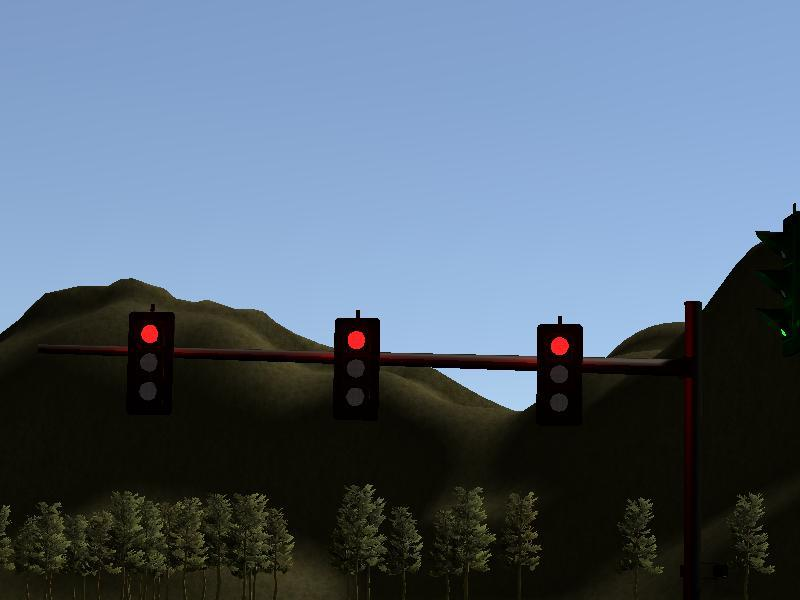Red: (129, 310, 173, 414), (537, 324, 581, 426), (335, 318, 378, 421)
